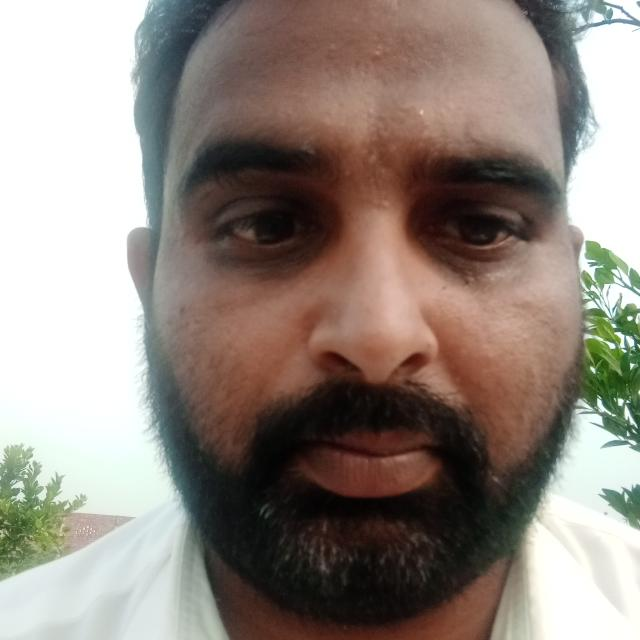Acne: (369, 45, 387, 60), (366, 152, 379, 168), (519, 292, 533, 306), (516, 332, 528, 345)
Eyebags: (403, 227, 543, 291), (208, 223, 339, 279)
